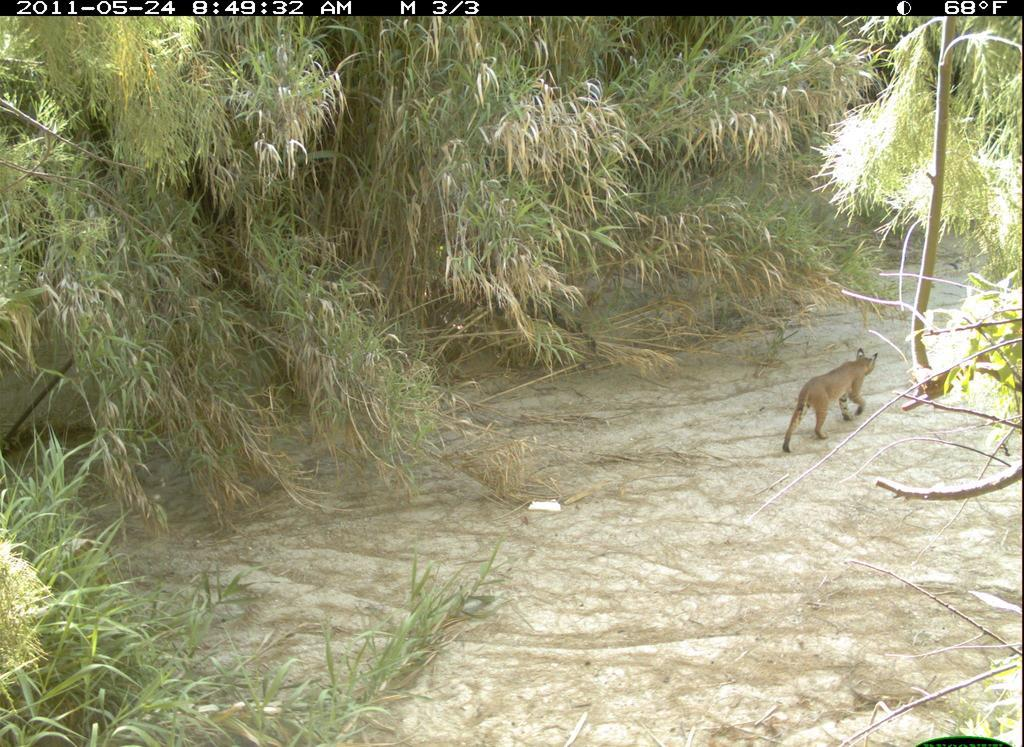bobcat: (771, 345, 884, 460)
